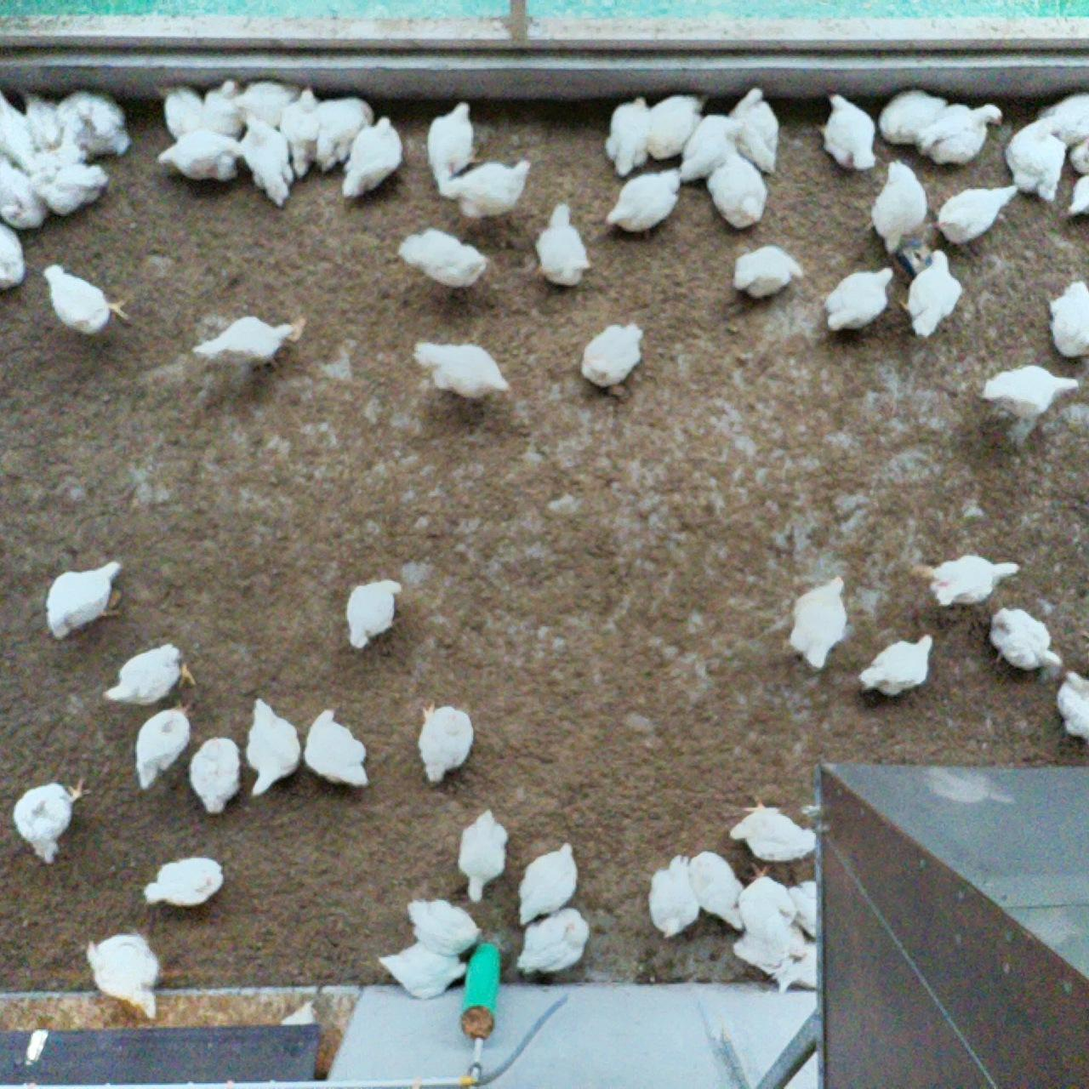chicken: (85, 923, 163, 1024), (7, 774, 90, 867), (43, 557, 129, 645), (781, 572, 855, 673), (932, 173, 1026, 250), (232, 102, 300, 208), (100, 639, 201, 710), (392, 223, 494, 292), (910, 547, 1025, 608), (243, 689, 306, 800), (411, 336, 516, 401), (301, 702, 372, 798), (190, 310, 299, 372), (43, 263, 134, 337), (980, 360, 1084, 424), (870, 157, 934, 259), (902, 245, 967, 345), (374, 939, 474, 1003), (915, 98, 1003, 170), (607, 161, 687, 240), (721, 81, 786, 178), (513, 902, 595, 978), (439, 154, 536, 218), (402, 889, 487, 961), (1003, 111, 1068, 203), (854, 629, 937, 701), (339, 111, 404, 201), (421, 97, 480, 196), (704, 146, 771, 233), (985, 604, 1067, 675), (133, 698, 196, 790), (414, 698, 478, 788), (516, 837, 581, 925), (728, 800, 818, 863), (453, 809, 512, 905), (151, 127, 248, 185), (822, 261, 896, 337), (685, 850, 750, 936), (304, 94, 373, 175), (642, 88, 711, 167), (645, 850, 704, 942), (814, 90, 878, 174), (532, 200, 592, 289), (874, 86, 951, 153), (140, 853, 225, 912), (56, 90, 127, 160), (579, 320, 649, 389), (680, 113, 745, 187), (735, 863, 799, 938), (601, 91, 656, 177), (730, 241, 805, 304), (34, 157, 109, 220), (186, 735, 242, 818), (345, 576, 404, 650), (729, 925, 811, 977), (278, 81, 319, 184), (1042, 277, 1089, 362), (230, 77, 305, 130), (0, 154, 50, 231), (201, 73, 249, 149), (1030, 88, 1089, 148), (12, 83, 63, 151), (156, 77, 205, 146), (15, 141, 97, 182), (0, 89, 36, 175), (1054, 665, 1089, 744), (768, 940, 822, 990), (785, 873, 824, 942), (0, 222, 29, 293), (1060, 173, 1089, 222), (277, 996, 318, 1030), (1066, 131, 1089, 177)
